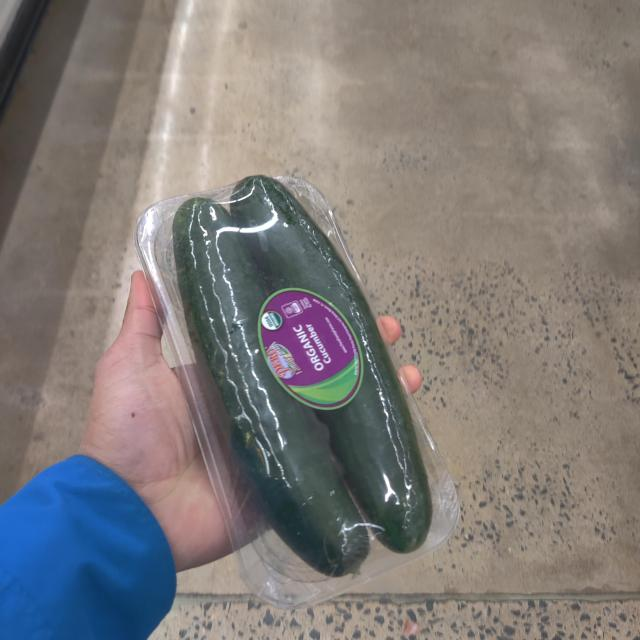Cucumber: (146, 164, 462, 606)
